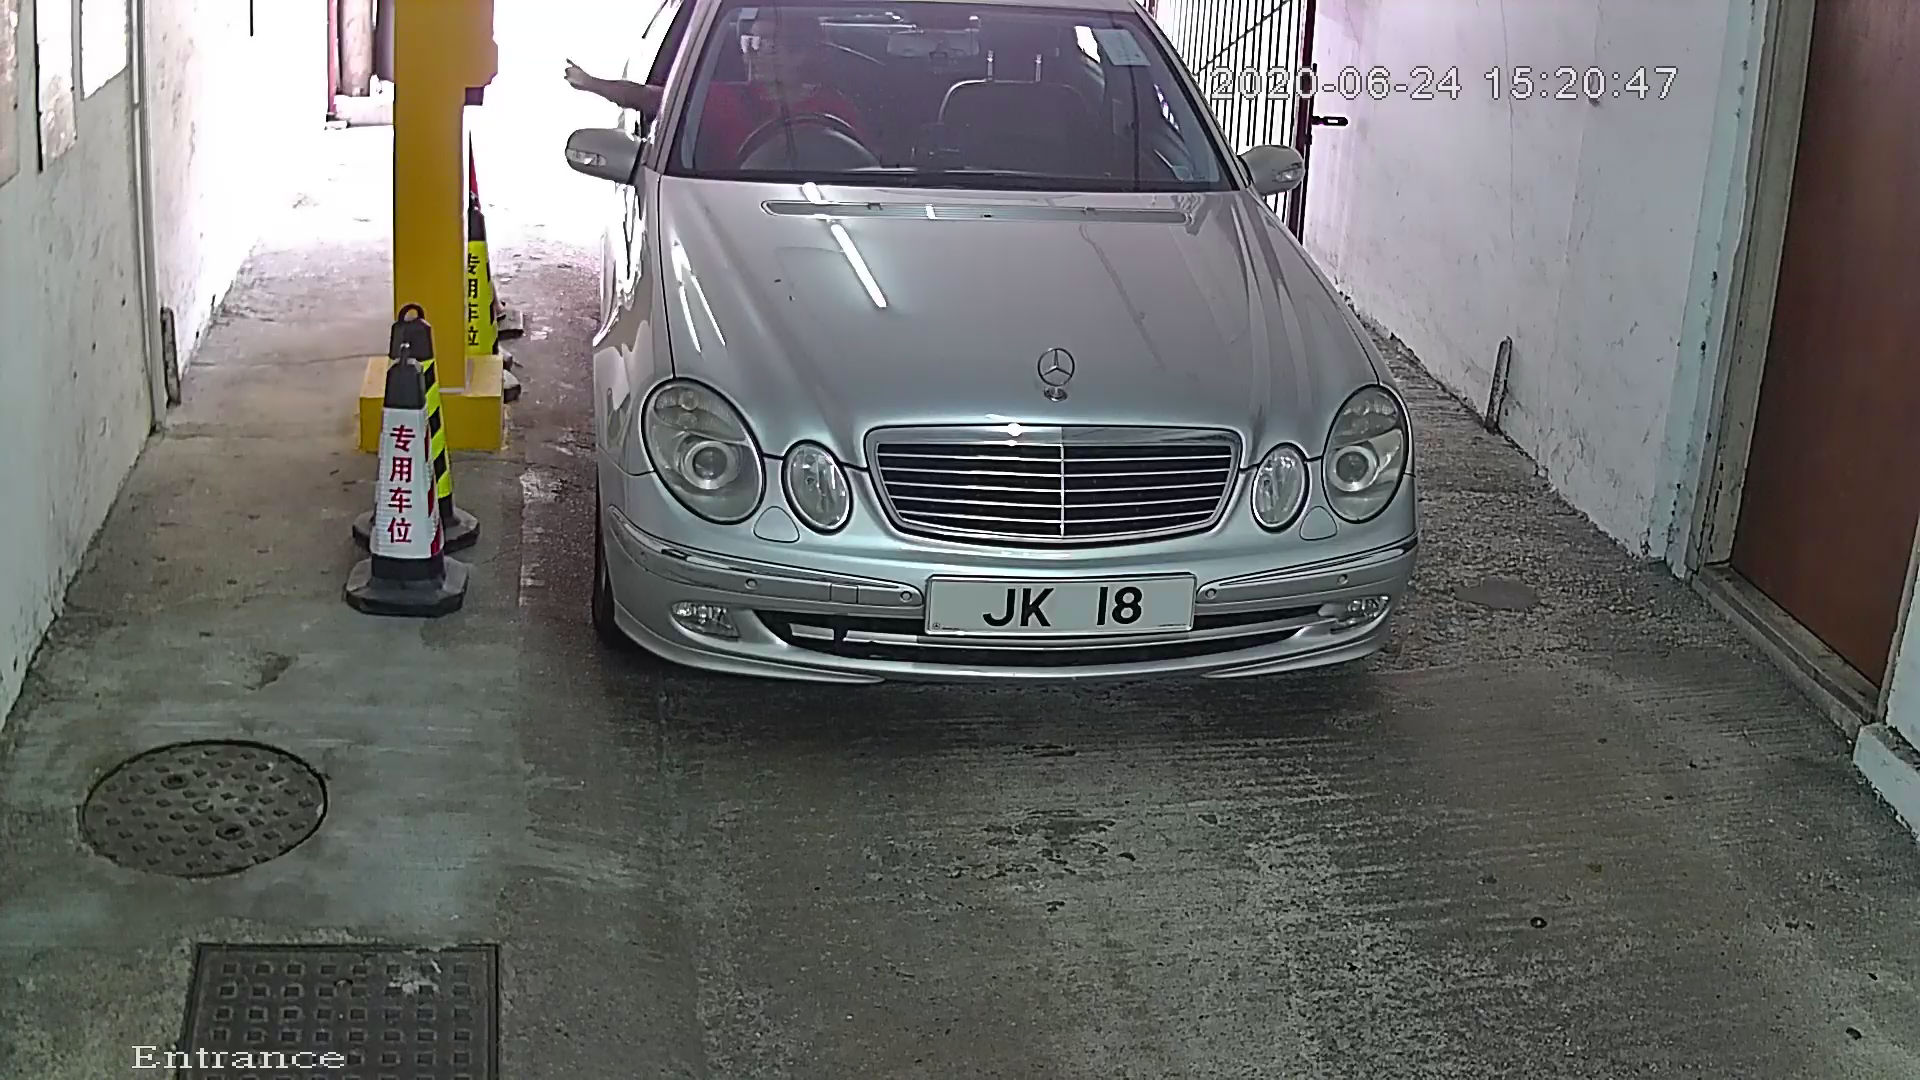Car: (541, 1, 1434, 732)
License Plate: (911, 560, 1226, 652)
